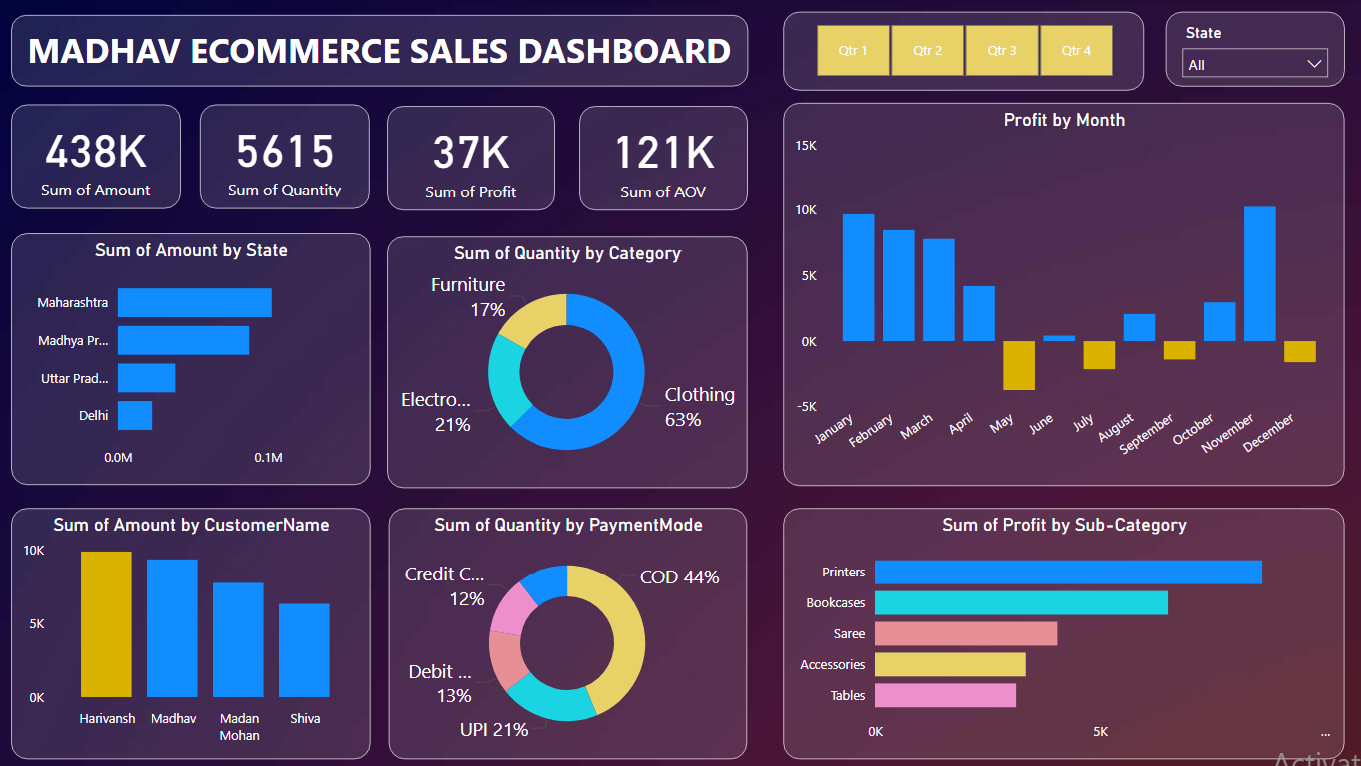

This screenshot's page, from the dashboard's own definition file:
{"tool":"powerbi","page":{"name":"Page 1","canvas":[1280,720],"ordinal":0},"visuals":[{"type":"textbox","box":[10,15,688.9,66.9],"z":0},{"type":"columnChart","title":"Profit by Month","fields":{"Category":["Orders.Order Date.Variation.Date Hierarchy.Month"],"Y":["Sum(Details.Profit)"]},"box":[732.4,97,525,359.5],"z":1000},{"type":"barChart","fields":{"Category":["Details.Sub-Category"],"Y":["Sum(Details.Profit)"]},"box":[732.4,478.2,525,235.8],"z":2000},{"type":"donutChart","fields":{"Category":["Details.Category"],"Y":["Sum(Details.Quantity)"]},"box":[362.8,222.4,336.1,235.8],"z":3000},{"type":"donutChart","fields":{"Y":["Sum(Details.Quantity)"],"Category":["Details.PaymentMode"]},"box":[364.5,478.2,334.4,235.8],"z":4000},{"type":"card","fields":{"Values":["Sum(Details.Amount)"]},"box":[10,98.7,158.9,98],"z":5000},{"type":"card","fields":{"Values":["Sum(Details.Quantity)"]},"box":[187.3,98.7,158.9,98],"z":6000},{"type":"card","fields":{"Values":["Sum(Details.Profit)"]},"box":[362.8,100.3,157.2,98],"z":7000},{"type":"card","fields":{"Values":["Sum(Details.AOV)"]},"box":[541.8,100.3,157.2,98],"z":8000},{"type":"barChart","fields":{"Category":["Orders.State"],"Y":["Sum(Details.Amount)"]},"box":[10,220.7,336.1,235.8],"z":9000},{"type":"columnChart","title":"Sum of Amount by CustomerName","fields":{"Category":["Orders.CustomerName"],"Y":["Sum(Details.Amount)","Sum(Details.Amount)"]},"box":[10,478.2,336.1,235.8],"z":10000},{"type":"slicer","fields":{"Values":["Orders.Order Date.Variation.Date Hierarchy.Quarter"]},"box":[732.4,11.7,337.8,73.6],"z":11000},{"type":"slicer","fields":{"Values":["Orders.State"]},"box":[1090.2,11.7,167.2,70.2],"z":12000}]}

Visuals, with their boxes in screenshot pixels (x1, y1, x2, y2), scaled from the page's 1280x720 canvas onto the 1361x766 screenshot:
textbox: 11:16:743:87
"Profit by Month" columnChart: 779:103:1337:486
barChart - Details.Sub-Category x Sum(Details.Profit): 779:509:1337:760
donutChart - Details.Category x Sum(Details.Quantity): 386:237:743:487
donutChart - Sum(Details.Quantity) x Details.PaymentMode: 388:509:743:760
card - Sum(Details.Amount): 11:105:180:209
card - Sum(Details.Quantity): 199:105:368:209
card - Sum(Details.Profit): 386:107:553:211
card - Sum(Details.AOV): 576:107:743:211
barChart - Orders.State x Sum(Details.Amount): 11:235:368:486
"Sum of Amount by CustomerName" columnChart: 11:509:368:760
slicer - Orders.Order Date.Variation.Date Hierarchy.Quarter: 779:12:1138:91
slicer - Orders.State: 1159:12:1337:87
